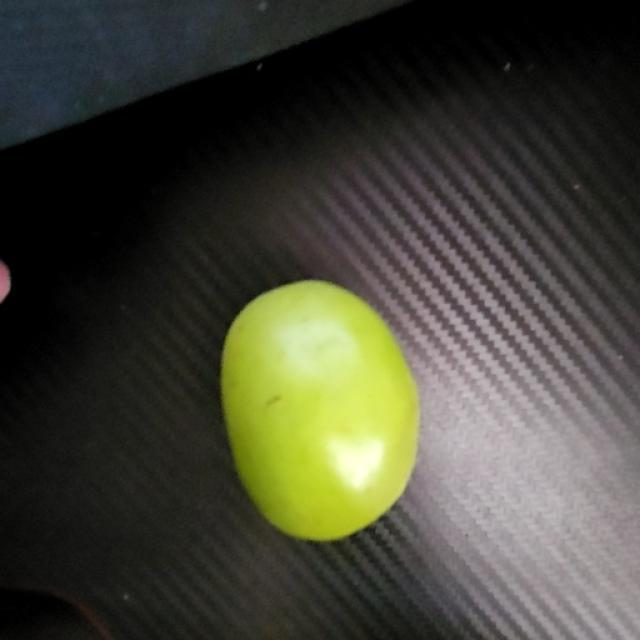Red: (217, 276, 422, 543)
